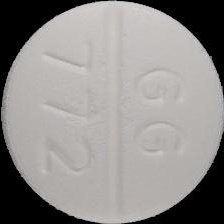35356-899: (0, 0, 224, 224)
